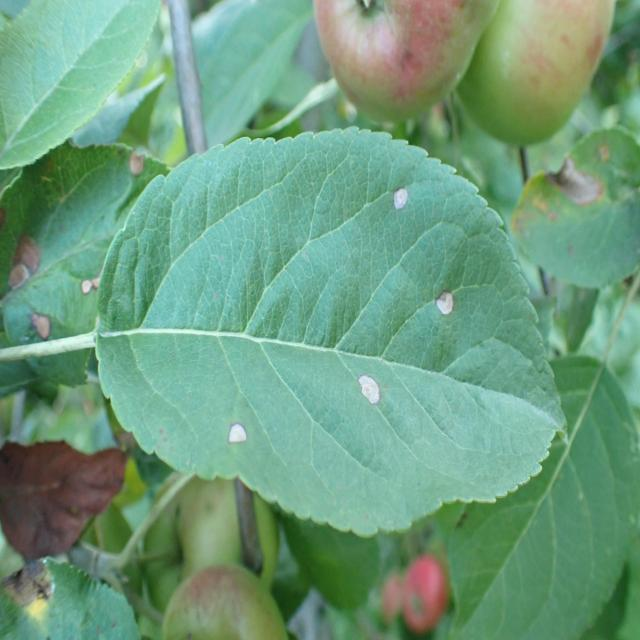Black Rot: (417, 266, 484, 339), (346, 355, 404, 428), (60, 250, 118, 320), (114, 123, 162, 193), (379, 161, 411, 241), (19, 302, 62, 360), (215, 400, 251, 462)
